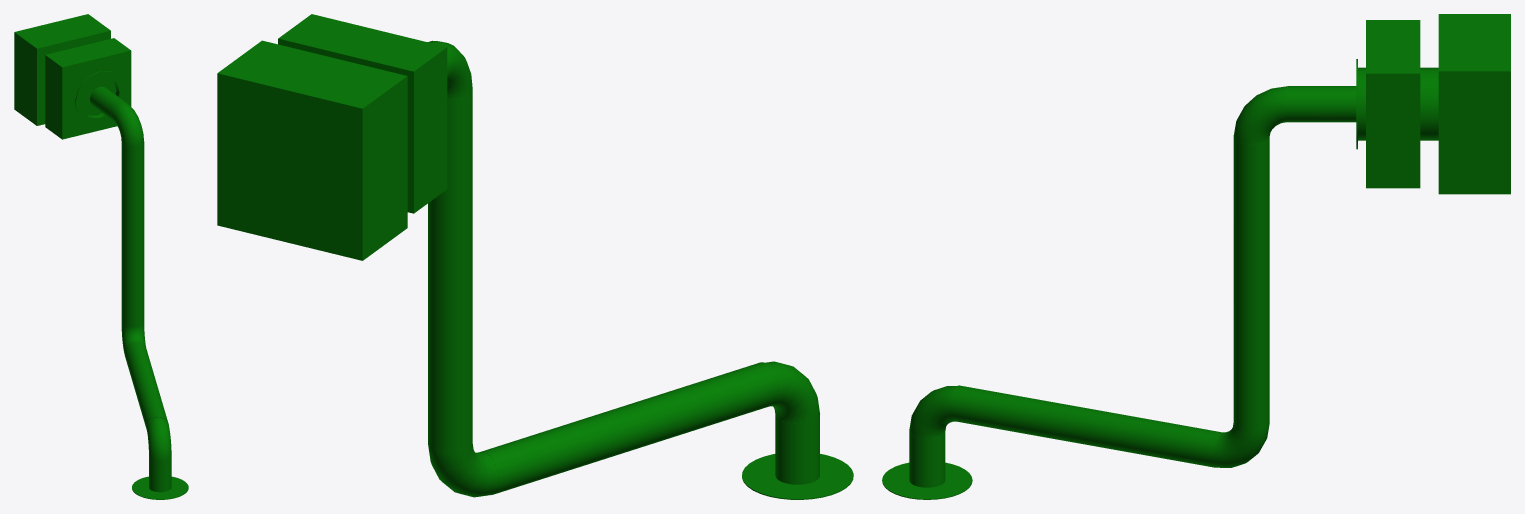
Rendered from Image-1711348167576-2281197158896_HE-M-EQU-HVAC-SUPPLY-DUCT_AIRCOMP.fbx.
3 views of the same model, side by side, from view 1: azimuth 30°, elevation 25°; view 2: azimuth 150°, elevation 25°; view 3: azimuth 270°, elevation 25° (orthographic). The views are drawn at different scales.
Parts seen in each view (by area): view 1: BOX 2 of EQUIPMENT /HE-M-EQU-HVAC-SUPPLY-DUCT_AIRCOMP, BOX 1 of EQUIPMENT /HE-M-EQU-HVAC-SUPPLY-DUCT_AIRCOMP, CYLINDER 6 of EQUIPMENT /HE-M-EQU-HVAC-SUPPLY-DUCT_AIRCOMP, CYLINDER 7 of EQUIPMENT /HE-M-EQU-HVAC-SUPPLY-DUCT_AIRCOMP, CTORUS 1 of EQUIPMENT /HE-M-EQU-HVAC-SUPPLY-DUCT_AIRCOMP, CTORUS 3 of EQUIPMENT /HE-M-EQU-HVAC-SUPPLY-DUCT_AIRCOMP, CYLINDER 9 of EQUIPMENT /HE-M-EQU-HVAC-SUPPLY-DUCT_AIRCOMP, CYLINDER 8 of EQUIPMENT /HE-M-EQU-HVAC-SUPPLY-DUCT_AIRCOMP, CYLINDER 4 of EQUIPMENT /HE-M-EQU-HVAC-SUPPLY-DUCT_AIRCOMP, CYLINDER 5 of EQUIPMENT /HE-M-EQU-HVAC-SUPPLY-DUCT_AIRCOMP, CTORUS 2 of EQUIPMENT /HE-M-EQU-HVAC-SUPPLY-DUCT_AIRCOMP; view 2: BOX 1 of EQUIPMENT /HE-M-EQU-HVAC-SUPPLY-DUCT_AIRCOMP, CYLINDER 6 of EQUIPMENT /HE-M-EQU-HVAC-SUPPLY-DUCT_AIRCOMP, CYLINDER 7 of EQUIPMENT /HE-M-EQU-HVAC-SUPPLY-DUCT_AIRCOMP, BOX 2 of EQUIPMENT /HE-M-EQU-HVAC-SUPPLY-DUCT_AIRCOMP, CYLINDER 9 of EQUIPMENT /HE-M-EQU-HVAC-SUPPLY-DUCT_AIRCOMP, CYLINDER 8 of EQUIPMENT /HE-M-EQU-HVAC-SUPPLY-DUCT_AIRCOMP, CTORUS 2 of EQUIPMENT /HE-M-EQU-HVAC-SUPPLY-DUCT_AIRCOMP, CTORUS 3 of EQUIPMENT /HE-M-EQU-HVAC-SUPPLY-DUCT_AIRCOMP, CTORUS 1 of EQUIPMENT /HE-M-EQU-HVAC-SUPPLY-DUCT_AIRCOMP; view 3: BOX 1 of EQUIPMENT /HE-M-EQU-HVAC-SUPPLY-DUCT_AIRCOMP, CYLINDER 6 of EQUIPMENT /HE-M-EQU-HVAC-SUPPLY-DUCT_AIRCOMP, CYLINDER 7 of EQUIPMENT /HE-M-EQU-HVAC-SUPPLY-DUCT_AIRCOMP, BOX 2 of EQUIPMENT /HE-M-EQU-HVAC-SUPPLY-DUCT_AIRCOMP, CYLINDER 5 of EQUIPMENT /HE-M-EQU-HVAC-SUPPLY-DUCT_AIRCOMP, CTORUS 1 of EQUIPMENT /HE-M-EQU-HVAC-SUPPLY-DUCT_AIRCOMP, CYLINDER 9 of EQUIPMENT /HE-M-EQU-HVAC-SUPPLY-DUCT_AIRCOMP, CYLINDER 8 of EQUIPMENT /HE-M-EQU-HVAC-SUPPLY-DUCT_AIRCOMP, CTORUS 2 of EQUIPMENT /HE-M-EQU-HVAC-SUPPLY-DUCT_AIRCOMP, CTORUS 3 of EQUIPMENT /HE-M-EQU-HVAC-SUPPLY-DUCT_AIRCOMP, CYLINDER 2 of EQUIPMENT /HE-M-EQU-HVAC-SUPPLY-DUCT_AIRCOMP.
Boxes of the visible parts, x1,y1,x2,y2 form: BOX 2 of EQUIPMENT /HE-M-EQU-HVAC-SUPPLY-DUCT_AIRCOMP: (45,38,131,139); BOX 1 of EQUIPMENT /HE-M-EQU-HVAC-SUPPLY-DUCT_AIRCOMP: (14,14,110,125); CYLINDER 6 of EQUIPMENT /HE-M-EQU-HVAC-SUPPLY-DUCT_AIRCOMP: (121,141,144,326); CYLINDER 7 of EQUIPMENT /HE-M-EQU-HVAC-SUPPLY-DUCT_AIRCOMP: (124,342,168,428); CTORUS 1 of EQUIPMENT /HE-M-EQU-HVAC-SUPPLY-DUCT_AIRCOMP: (111,102,144,146); CTORUS 3 of EQUIPMENT /HE-M-EQU-HVAC-SUPPLY-DUCT_AIRCOMP: (146,417,171,461); CYLINDER 9 of EQUIPMENT /HE-M-EQU-HVAC-SUPPLY-DUCT_AIRCOMP: (132,476,188,499); CYLINDER 8 of EQUIPMENT /HE-M-EQU-HVAC-SUPPLY-DUCT_AIRCOMP: (149,457,171,492); CYLINDER 4 of EQUIPMENT /HE-M-EQU-HVAC-SUPPLY-DUCT_AIRCOMP: (75,71,124,123); CYLINDER 5 of EQUIPMENT /HE-M-EQU-HVAC-SUPPLY-DUCT_AIRCOMP: (90,86,126,121); CTORUS 2 of EQUIPMENT /HE-M-EQU-HVAC-SUPPLY-DUCT_AIRCOMP: (121,323,146,352); BOX 1 of EQUIPMENT /HE-M-EQU-HVAC-SUPPLY-DUCT_AIRCOMP: (217,40,407,260); CYLINDER 6 of EQUIPMENT /HE-M-EQU-HVAC-SUPPLY-DUCT_AIRCOMP: (428,91,472,453); CYLINDER 7 of EQUIPMENT /HE-M-EQU-HVAC-SUPPLY-DUCT_AIRCOMP: (481,362,780,494); BOX 2 of EQUIPMENT /HE-M-EQU-HVAC-SUPPLY-DUCT_AIRCOMP: (278,14,447,213); CYLINDER 9 of EQUIPMENT /HE-M-EQU-HVAC-SUPPLY-DUCT_AIRCOMP: (742,454,853,499); CYLINDER 8 of EQUIPMENT /HE-M-EQU-HVAC-SUPPLY-DUCT_AIRCOMP: (775,415,819,484); CTORUS 2 of EQUIPMENT /HE-M-EQU-HVAC-SUPPLY-DUCT_AIRCOMP: (428,444,499,497); CTORUS 3 of EQUIPMENT /HE-M-EQU-HVAC-SUPPLY-DUCT_AIRCOMP: (765,361,819,423); CTORUS 1 of EQUIPMENT /HE-M-EQU-HVAC-SUPPLY-DUCT_AIRCOMP: (428,40,472,99); BOX 1 of EQUIPMENT /HE-M-EQU-HVAC-SUPPLY-DUCT_AIRCOMP: (1438,14,1510,194); CYLINDER 6 of EQUIPMENT /HE-M-EQU-HVAC-SUPPLY-DUCT_AIRCOMP: (1233,137,1269,430); CYLINDER 7 of EQUIPMENT /HE-M-EQU-HVAC-SUPPLY-DUCT_AIRCOMP: (949,385,1220,467); BOX 2 of EQUIPMENT /HE-M-EQU-HVAC-SUPPLY-DUCT_AIRCOMP: (1366,20,1420,188); CYLINDER 5 of EQUIPMENT /HE-M-EQU-HVAC-SUPPLY-DUCT_AIRCOMP: (1287,86,1356,122); CTORUS 1 of EQUIPMENT /HE-M-EQU-HVAC-SUPPLY-DUCT_AIRCOMP: (1233,86,1287,144); CYLINDER 9 of EQUIPMENT /HE-M-EQU-HVAC-SUPPLY-DUCT_AIRCOMP: (882,462,972,499); CYLINDER 8 of EQUIPMENT /HE-M-EQU-HVAC-SUPPLY-DUCT_AIRCOMP: (909,431,945,487); CTORUS 2 of EQUIPMENT /HE-M-EQU-HVAC-SUPPLY-DUCT_AIRCOMP: (1211,423,1269,467); CTORUS 3 of EQUIPMENT /HE-M-EQU-HVAC-SUPPLY-DUCT_AIRCOMP: (909,386,956,438); CYLINDER 2 of EQUIPMENT /HE-M-EQU-HVAC-SUPPLY-DUCT_AIRCOMP: (1420,67,1438,140).
Bounding box in the file's own units: 1.38 × 3.48 × 3.02.
